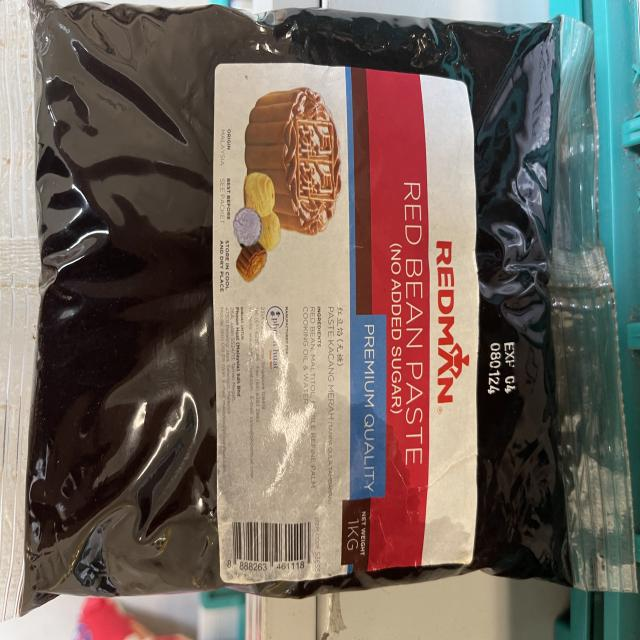object_name: (6, 32, 591, 585)
